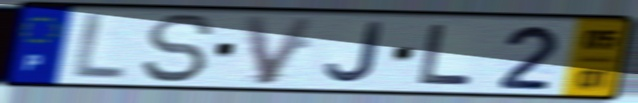2: (490, 20, 568, 93)
J: (323, 20, 387, 86)
L: (69, 11, 129, 83), (415, 22, 478, 87)
S: (138, 12, 219, 86)
V: (240, 14, 320, 88)
